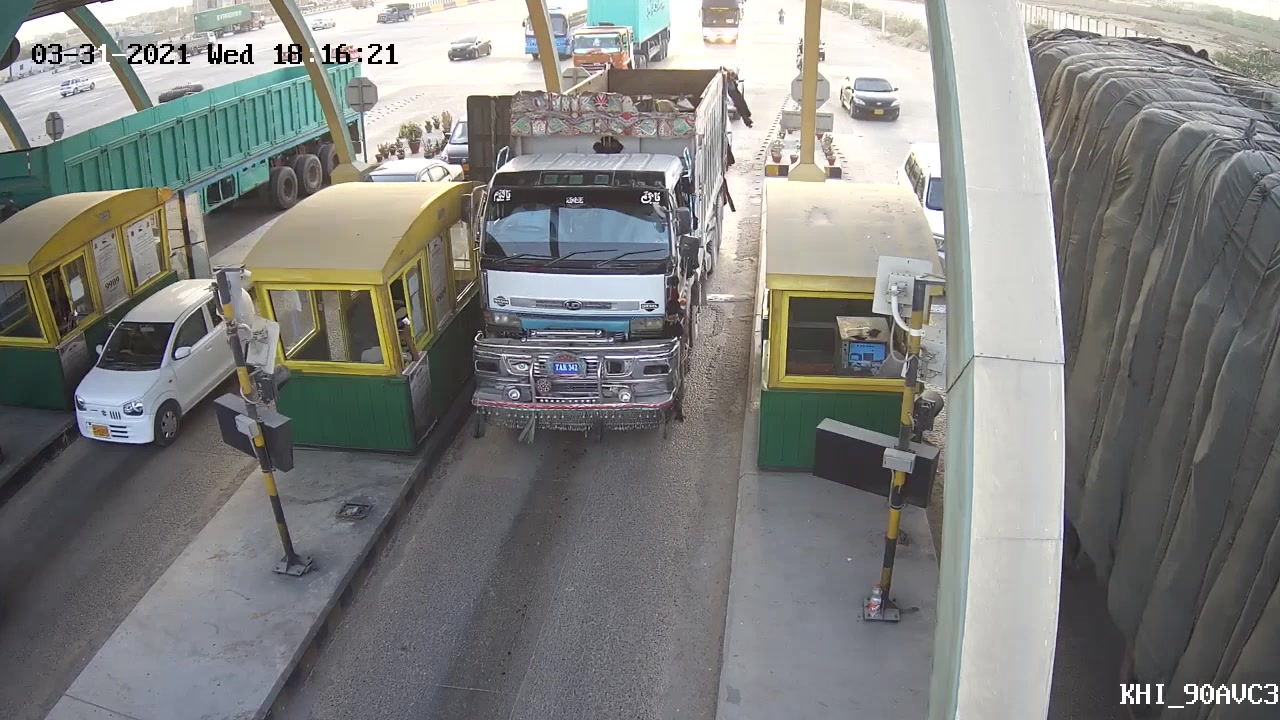F5: (461, 69, 738, 430)
